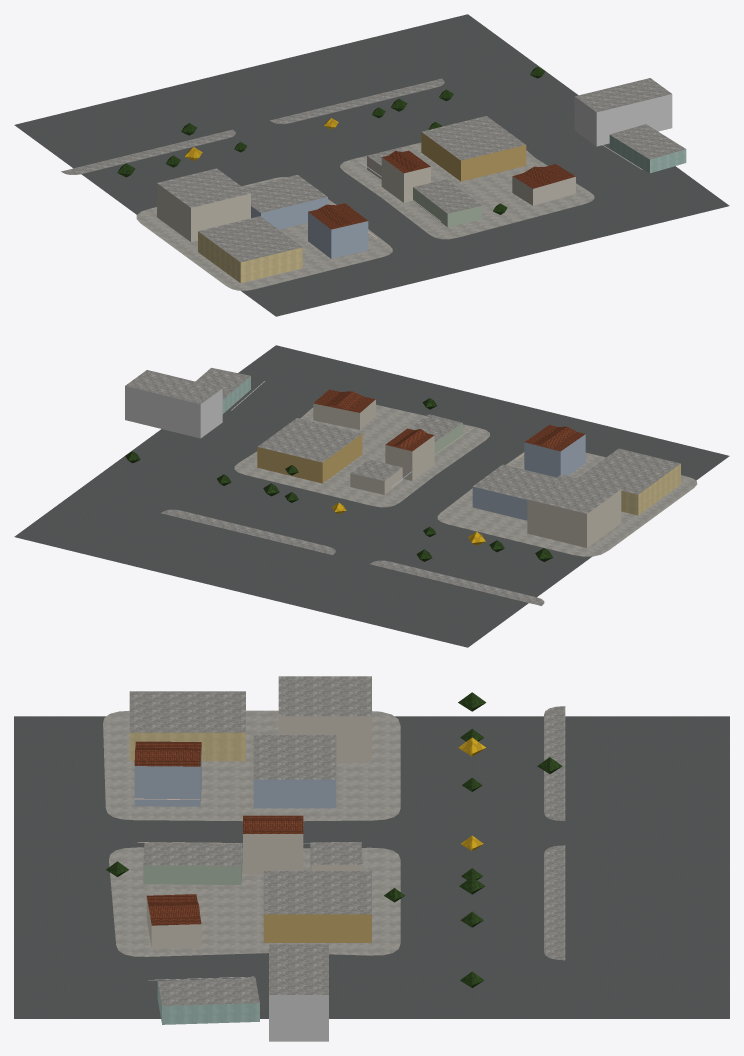
Rendered from cidade_S04_02_lod.gltf.
3 renders of one model, top to bottom at view 1: azimuth 30°, elevation 25°; view 2: azimuth 150°, elevation 25°; view 3: azimuth 270°, elevation 25°, orthographic. The views are drawn at different scales.
Parts seen in each view (by area): view 1: S04_02_Chao_LOD2, S04_02_Edificios_LOD1, S04_02_Silhueta_LOD2, S04_02_Vegetacao_LOD2; view 2: S04_02_Chao_LOD2, S04_02_Edificios_LOD1, S04_02_Silhueta_LOD2, S04_02_Vegetacao_LOD2; view 3: S04_02_Chao_LOD2, S04_02_Edificios_LOD1, S04_02_Silhueta_LOD2, S04_02_Vegetacao_LOD2.
Part boxes in pixels (box(x1,y1,x2,y2)): S04_02_Chao_LOD2: box(14, 14, 729, 316); S04_02_Edificios_LOD1: box(157, 78, 686, 283); S04_02_Silhueta_LOD2: box(308, 150, 575, 258); S04_02_Vegetacao_LOD2: box(117, 66, 545, 214); S04_02_Chao_LOD2: box(14, 345, 729, 647); S04_02_Edificios_LOD1: box(125, 367, 680, 547); S04_02_Silhueta_LOD2: box(313, 389, 585, 480); S04_02_Vegetacao_LOD2: box(125, 398, 553, 561); S04_02_Chao_LOD2: box(14, 706, 729, 1018); S04_02_Edificios_LOD1: box(129, 676, 371, 1041); S04_02_Silhueta_LOD2: box(134, 741, 303, 948); S04_02_Vegetacao_LOD2: box(106, 692, 562, 987).
Size of the model in its own units: 111 by 7.37 by 100.
Materials: 16 (16 with a texture image).
